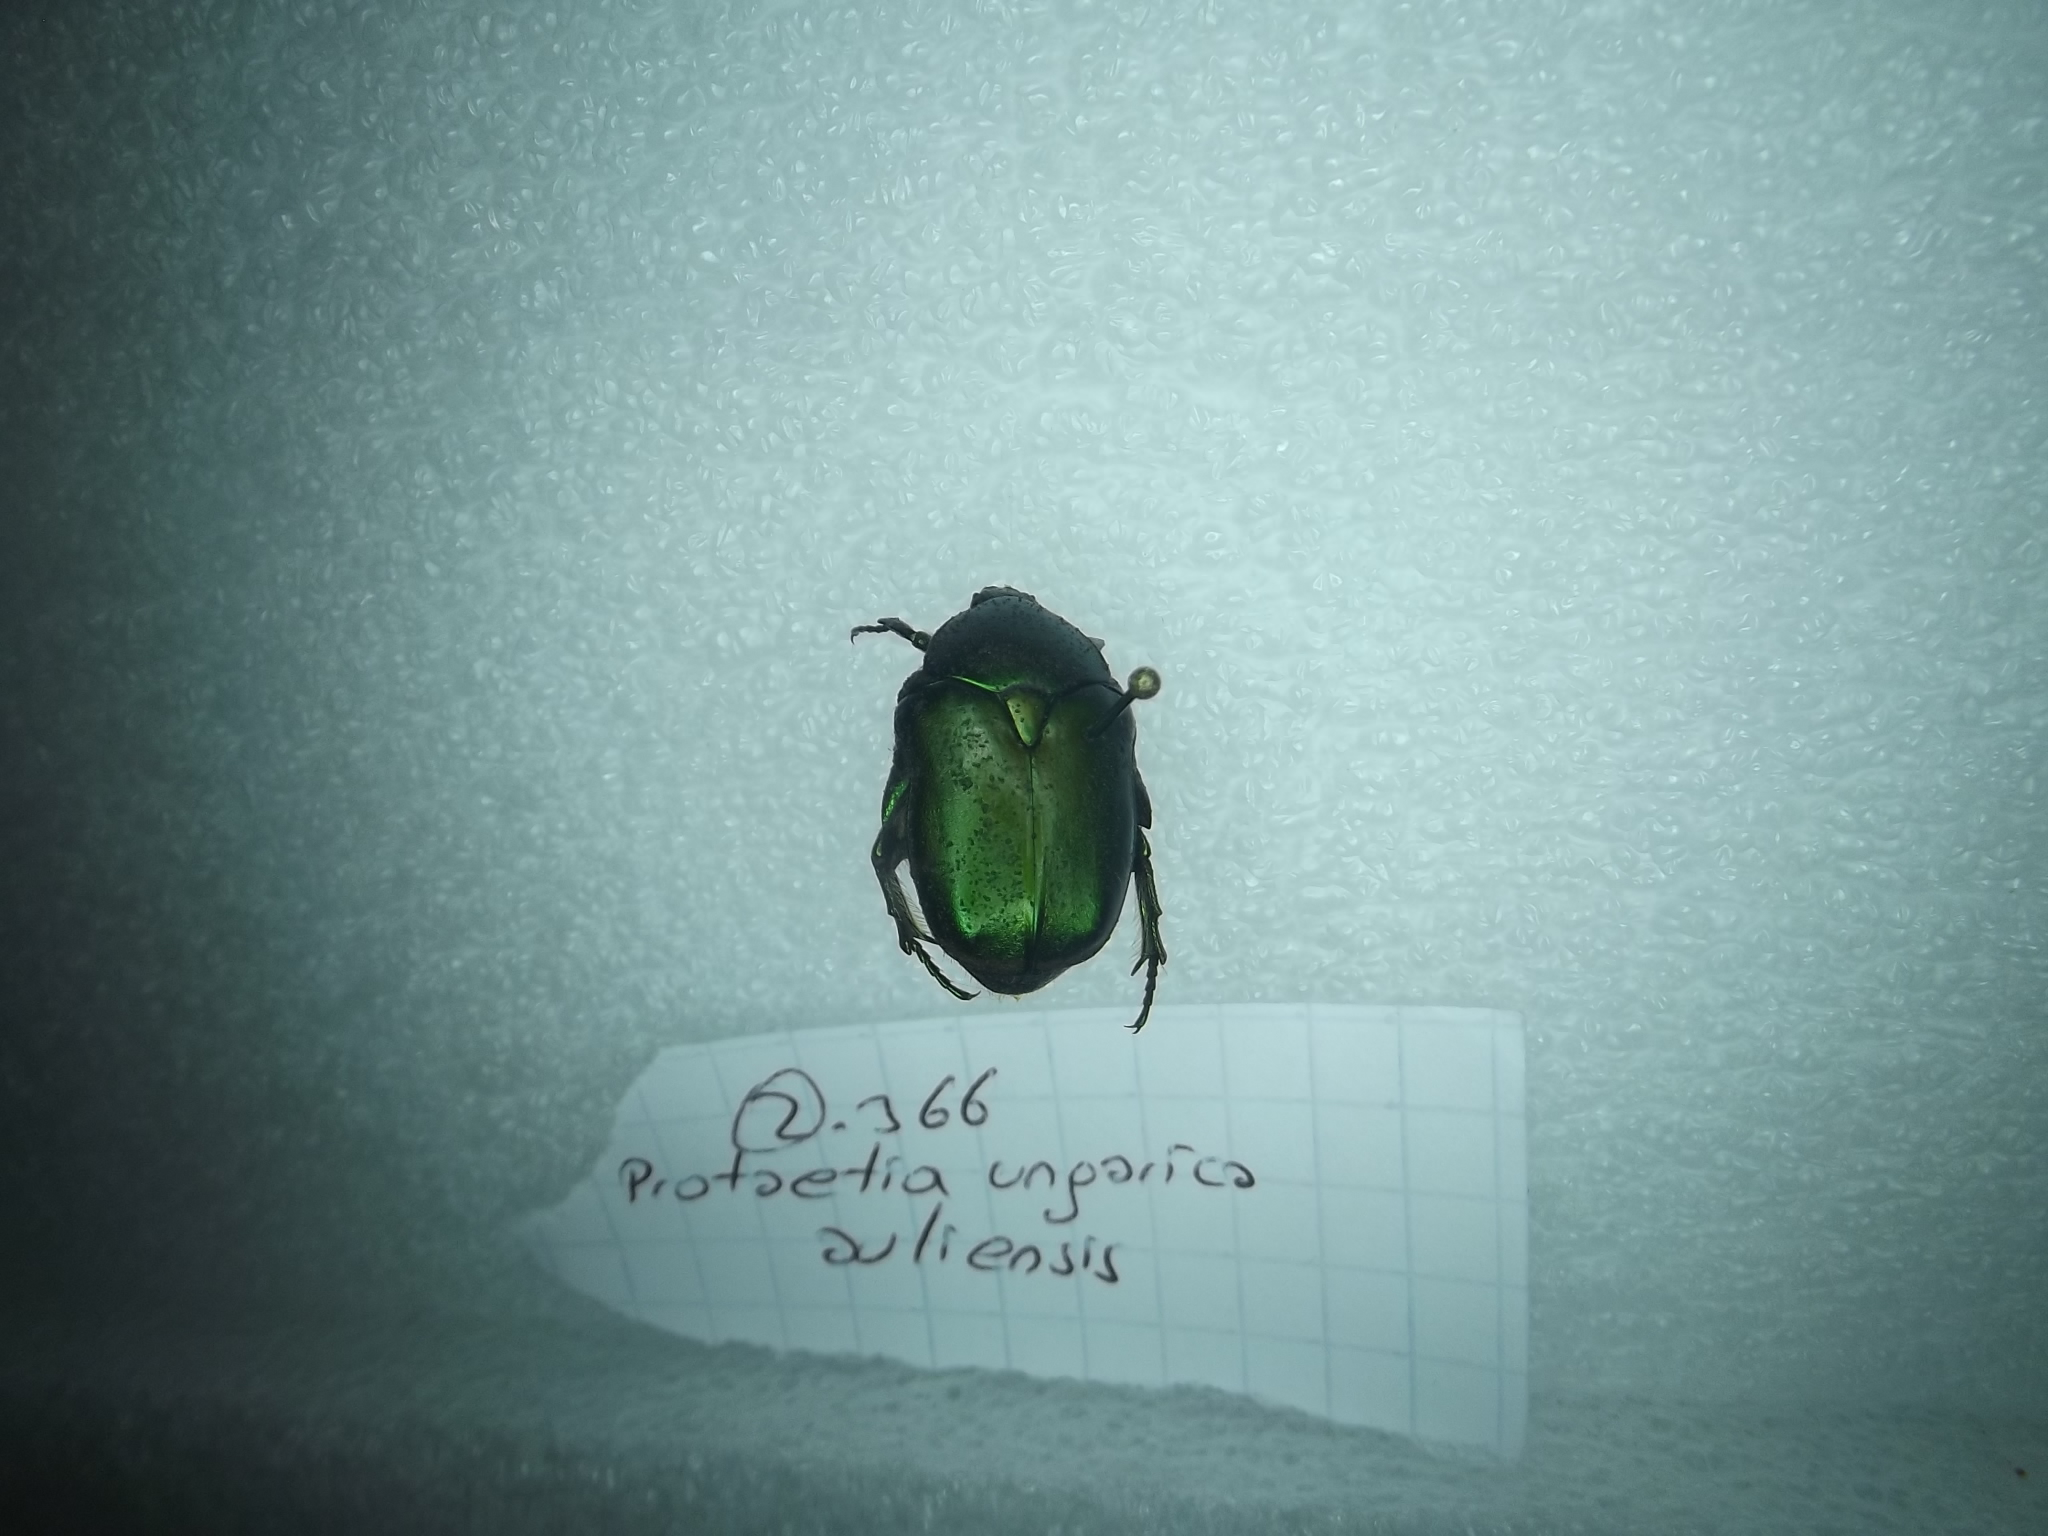Protaetia_ungarica: (848, 578, 1171, 1036)
